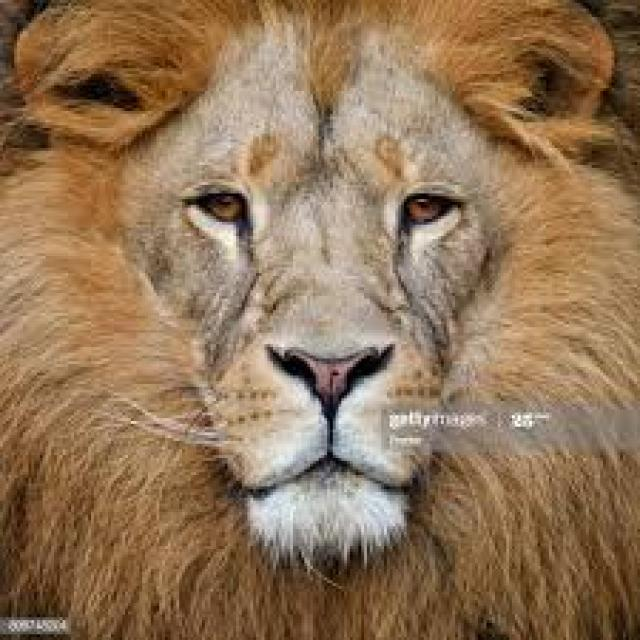Lion: (0, 0, 637, 637)
